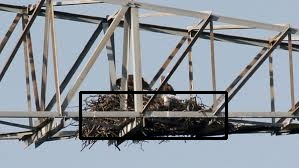bird-nest: (77, 87, 224, 131)
